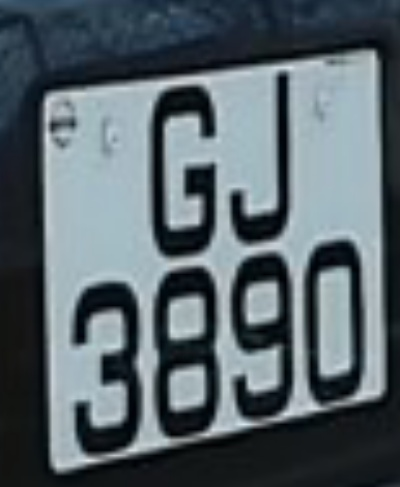0: (299, 221, 372, 404)
3: (64, 264, 152, 451)
8: (144, 260, 227, 435)
9: (224, 240, 299, 413)
G: (138, 76, 225, 264)
J: (220, 67, 303, 249)
